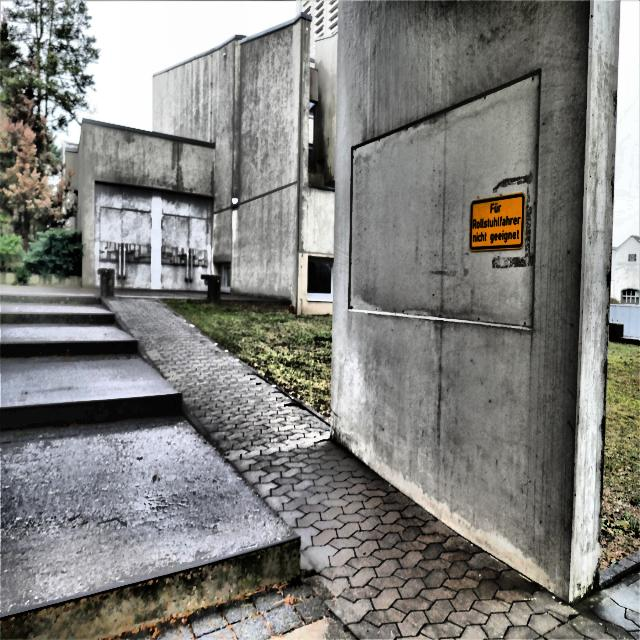escada: (0, 293, 300, 640)
